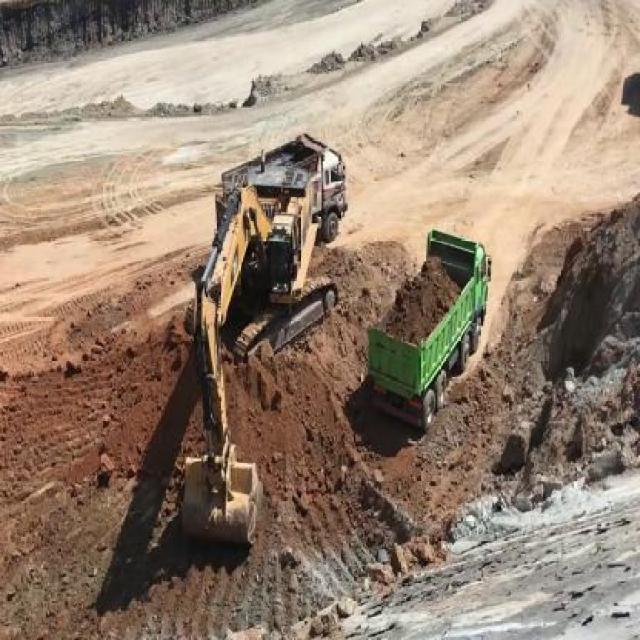Dump Truck: (364, 213, 490, 439), (216, 136, 353, 247)
Excavator: (174, 170, 340, 552)
